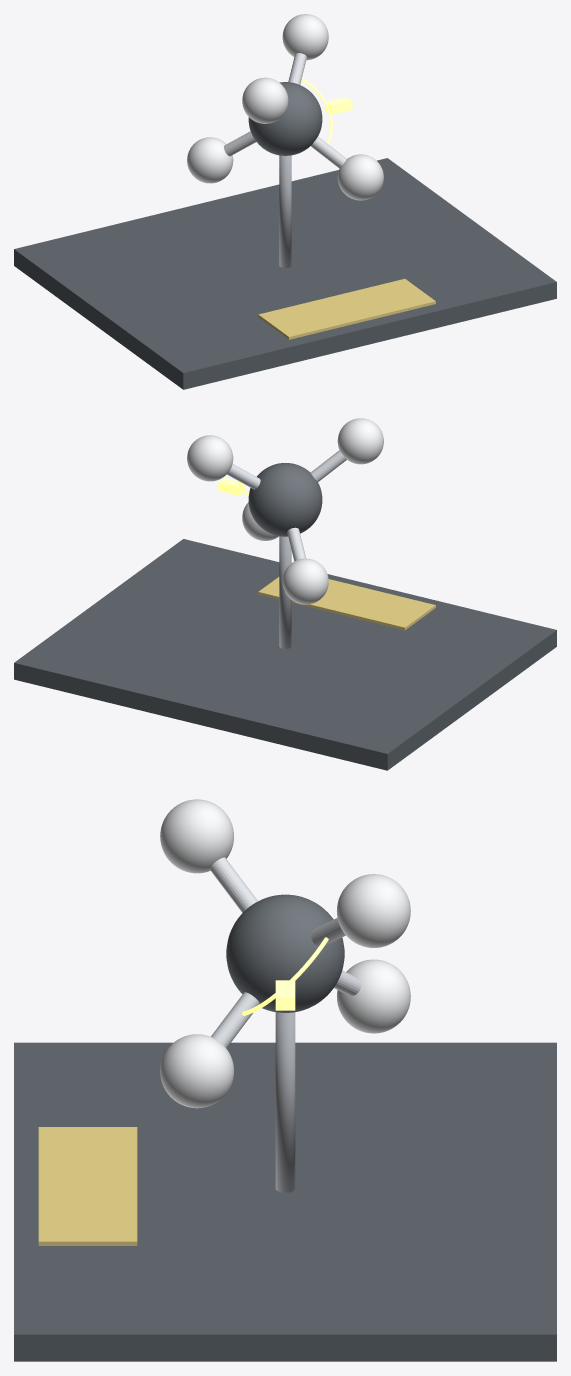
File: methane-molecule.glb
The picture shows the model from 3 angles, top to bottom: view 1: azimuth 30°, elevation 25°; view 2: azimuth 150°, elevation 25°; view 3: azimuth 270°, elevation 25°; orthographic projection. The views are drawn at different scales.
Visible parts, largest first — view 1: methane-molecule_Plinth, methane-molecule_Plaque, methane-molecule_Carbon, methane-molecule_Hydrogen_3, methane-molecule_Hydrogen_1, methane-molecule_Hydrogen_2, methane-molecule_Hydrogen_0, methane-molecule_Stand_Post, methane-molecule_Bond_1; view 2: methane-molecule_Plinth, methane-molecule_Carbon, methane-molecule_Plaque, methane-molecule_Hydrogen_0, methane-molecule_Hydrogen_2, methane-molecule_Hydrogen_3, methane-molecule_Stand_Post, methane-molecule_Hydrogen_1, methane-molecule_Bond_3; view 3: methane-molecule_Plinth, methane-molecule_Plaque, methane-molecule_Carbon, methane-molecule_Hydrogen_1, methane-molecule_Hydrogen_0, methane-molecule_Hydrogen_3, methane-molecule_Hydrogen_2, methane-molecule_Stand_Post, methane-molecule_Bond_3, methane-molecule_Bond_1.
Boxes of the visible parts, x1,y1,x2,y2 form: methane-molecule_Plinth: [14, 158, 556, 389]; methane-molecule_Plaque: [258, 279, 435, 339]; methane-molecule_Carbon: [248, 82, 322, 155]; methane-molecule_Hydrogen_3: [242, 77, 288, 123]; methane-molecule_Hydrogen_1: [337, 154, 383, 200]; methane-molecule_Hydrogen_2: [187, 137, 233, 183]; methane-molecule_Hydrogen_0: [282, 14, 328, 60]; methane-molecule_Stand_Post: [279, 155, 291, 268]; methane-molecule_Bond_1: [310, 136, 346, 168]; methane-molecule_Plinth: [14, 539, 556, 770]; methane-molecule_Carbon: [248, 463, 322, 536]; methane-molecule_Plaque: [258, 577, 435, 630]; methane-molecule_Hydrogen_0: [187, 435, 233, 481]; methane-molecule_Hydrogen_2: [282, 558, 328, 604]; methane-molecule_Hydrogen_3: [337, 418, 383, 464]; methane-molecule_Stand_Post: [279, 536, 291, 648]; methane-molecule_Hydrogen_1: [242, 502, 278, 540]; methane-molecule_Bond_3: [310, 450, 346, 481]; methane-molecule_Plinth: [14, 1042, 556, 1361]; methane-molecule_Plaque: [38, 1127, 137, 1245]; methane-molecule_Carbon: [226, 894, 344, 1012]; methane-molecule_Hydrogen_1: [160, 1034, 233, 1108]; methane-molecule_Hydrogen_0: [337, 874, 410, 947]; methane-molecule_Hydrogen_3: [160, 799, 233, 873]; methane-molecule_Hydrogen_2: [337, 959, 410, 1033]; methane-molecule_Stand_Post: [275, 1012, 295, 1192]; methane-molecule_Bond_3: [209, 857, 257, 912]; methane-molecule_Bond_1: [211, 992, 259, 1048].
Bounding box in the file's own units: 0.28 × 0.1678 × 0.22.
